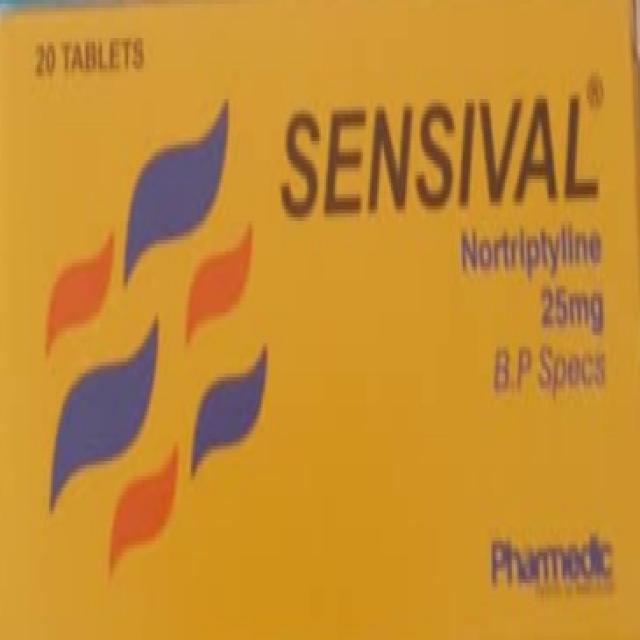drug-name: (280, 89, 602, 222)
